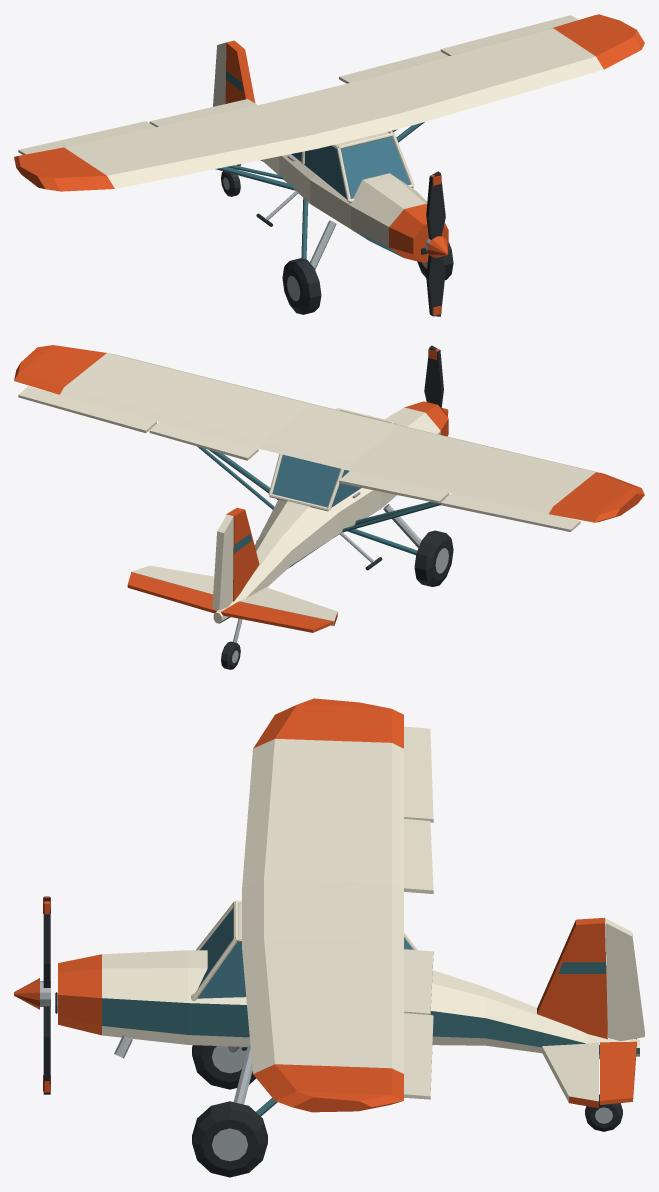
Rendered from meridian_scout.glb.
3 views of the same model, one above another, from view 1: azimuth 30°, elevation 25°; view 2: azimuth 150°, elevation 25°; view 3: azimuth 270°, elevation 25° (orthographic). The views are drawn at different scales.
Parts seen in each view (by area): view 1: AirframeMesh, PropellerMesh, WheelLeftMesh, AileronRightMesh, AileronLeftMesh, FlapRightMesh, FlapLeftMesh, RudderMesh; view 2: AirframeMesh, AileronRightMesh, AileronLeftMesh, WheelLeftMesh, RudderMesh, ElevatorLeftMesh, ElevatorRightMesh, FlapRightMesh, FlapLeftMesh, PropellerMesh; view 3: AirframeMesh, WheelRightMesh, RudderMesh, AileronLeftMesh, AileronRightMesh, ElevatorRightMesh, PropellerMesh, FlapLeftMesh, WheelLeftMesh, FlapRightMesh, TailWheelMesh.
Part boxes in pixels (x1=…): AirframeMesh: x1=14, y1=14, x2=644, y2=269; PropellerMesh: x1=425, y1=171, x2=448, y2=316; WheelLeftMesh: x1=282, y1=258, x2=321, y2=314; AileronRightMesh: x1=440, y1=15, x2=578, y2=55; AileronLeftMesh: x1=18, y1=121, x2=156, y2=154; FlapRightMesh: x1=339, y1=50, x2=448, y2=83; FlapLeftMesh: x1=149, y1=99, x2=257, y2=126; RudderMesh: x1=213, y1=41, x2=231, y2=106; AirframeMesh: x1=14, y1=345, x2=644, y2=642; AileronRightMesh: x1=18, y1=386, x2=156, y2=433; AileronLeftMesh: x1=440, y1=493, x2=580, y2=531; WheelLeftMesh: x1=414, y1=530, x2=453, y2=586; RudderMesh: x1=212, y1=514, x2=233, y2=610; ElevatorLeftMesh: x1=221, y1=601, x2=333, y2=632; ElevatorRightMesh: x1=127, y1=572, x2=217, y2=613; FlapRightMesh: x1=149, y1=422, x2=258, y2=460; FlapLeftMesh: x1=339, y1=471, x2=449, y2=503; PropellerMesh: x1=424, y1=345, x2=448, y2=416; AirframeMesh: x1=55, y1=698, x2=639, y2=1116; WheelRightMesh: x1=192, y1=1101, x2=267, y2=1177; RudderMesh: x1=605, y1=918, x2=644, y2=1041; AileronLeftMesh: x1=404, y1=726, x2=433, y2=822; AileronRightMesh: x1=404, y1=1013, x2=433, y2=1099; ElevatorRightMesh: x1=600, y1=1041, x2=636, y2=1104; PropellerMesh: x1=14, y1=896, x2=50, y2=1094; FlapLeftMesh: x1=404, y1=818, x2=433, y2=893; WheelLeftMesh: x1=192, y1=1045, x2=256, y2=1089; FlapRightMesh: x1=404, y1=949, x2=433, y2=1014; TailWheelMesh: x1=585, y1=1094, x2=622, y2=1131.
Bounding box in the file's own units: 9.44 × 2.58 × 6.31.
